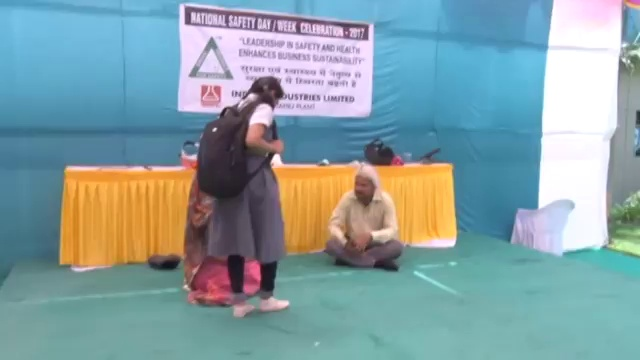helmet_off: (247, 75, 285, 108), (352, 167, 379, 200)
person: (198, 74, 290, 318), (181, 179, 264, 306), (325, 166, 404, 273)
